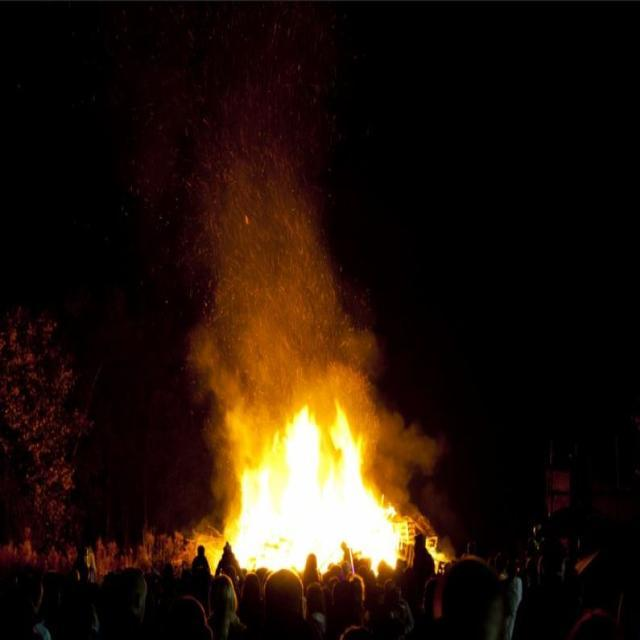Fire: (208, 402, 428, 574)
Smoke: (162, 154, 391, 374)
